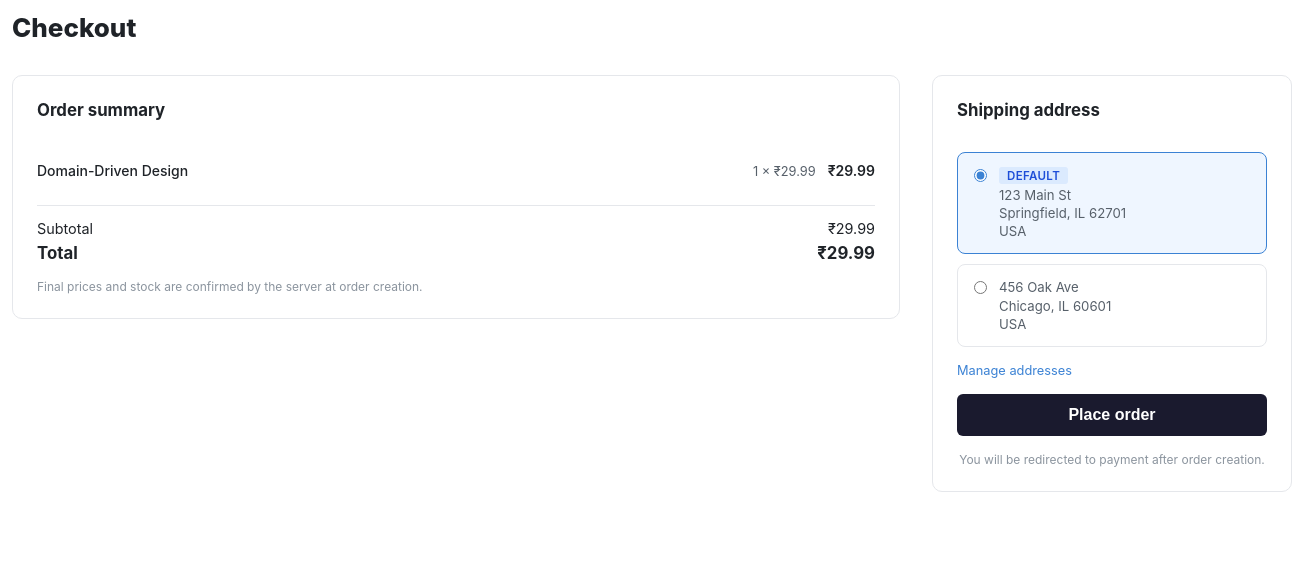
Scenario: CheckoutPage › shows 409 conflict inline without navigating away
This screenshot has width=1292, height=564.
expect the text "Domain-Driven Design" is shown: met, box x1=37 y1=162 x2=188 y2=179
Click the button "Place order" at [1112, 415], box x1=957 y1=394 x2=1267 y2=436
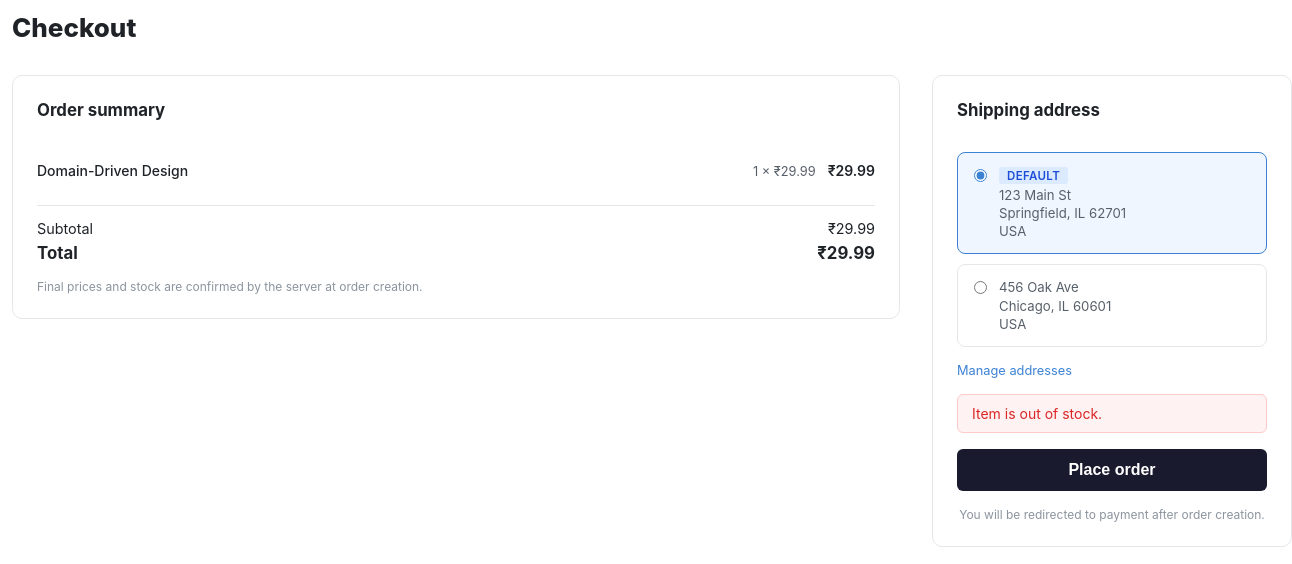
expect the text "Item is out of stock." is shown: met, box x1=957 y1=394 x2=1267 y2=433
